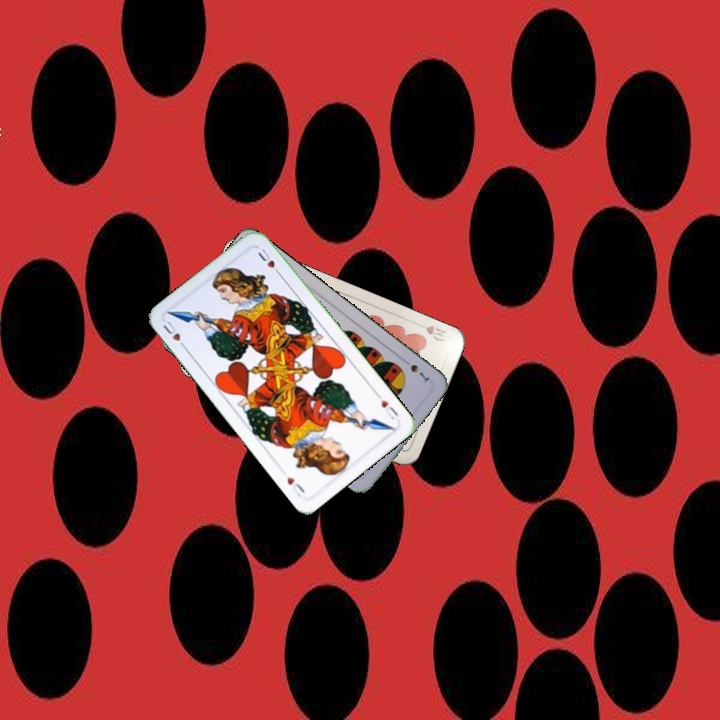H10: (412, 319, 449, 344)
HU: (159, 317, 189, 352), (372, 389, 401, 422)
S7: (399, 355, 432, 385)
